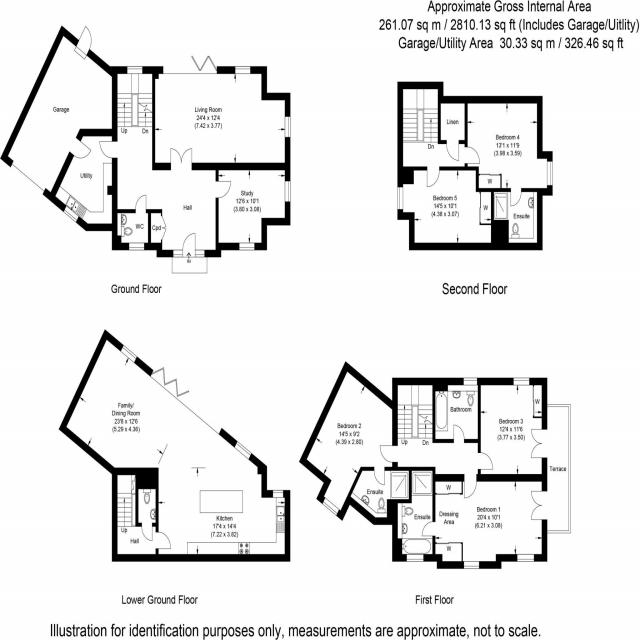DOOR: (69, 137, 92, 159), (463, 473, 477, 499), (379, 444, 398, 463), (99, 140, 118, 159), (182, 232, 196, 257), (155, 531, 172, 550), (426, 166, 440, 187), (478, 452, 494, 470), (464, 146, 480, 164), (215, 181, 231, 198), (421, 521, 436, 537), (373, 466, 385, 486), (453, 424, 465, 443), (510, 188, 522, 207), (135, 194, 147, 213), (141, 523, 153, 541)
DOUBLE DOOR: (529, 427, 547, 460), (530, 490, 548, 523), (169, 146, 193, 170)
FOLDING DOOR: (148, 364, 191, 400), (190, 54, 217, 73)
ROOM: (59, 329, 291, 562), (152, 54, 291, 170), (299, 361, 398, 521), (421, 474, 548, 569), (464, 96, 553, 207), (397, 166, 509, 251), (478, 377, 548, 482), (215, 162, 291, 258)
WINDOW: (120, 344, 138, 364), (322, 497, 340, 516), (234, 441, 252, 460), (63, 205, 80, 223), (284, 116, 291, 138), (513, 377, 530, 386), (547, 161, 553, 186), (406, 554, 424, 562), (129, 242, 145, 251), (397, 187, 403, 210), (517, 554, 534, 562), (463, 377, 478, 386), (239, 243, 255, 251), (235, 66, 251, 74), (127, 66, 143, 74), (285, 181, 291, 202), (464, 561, 479, 569), (194, 249, 205, 258), (272, 490, 284, 498), (173, 249, 183, 258)
